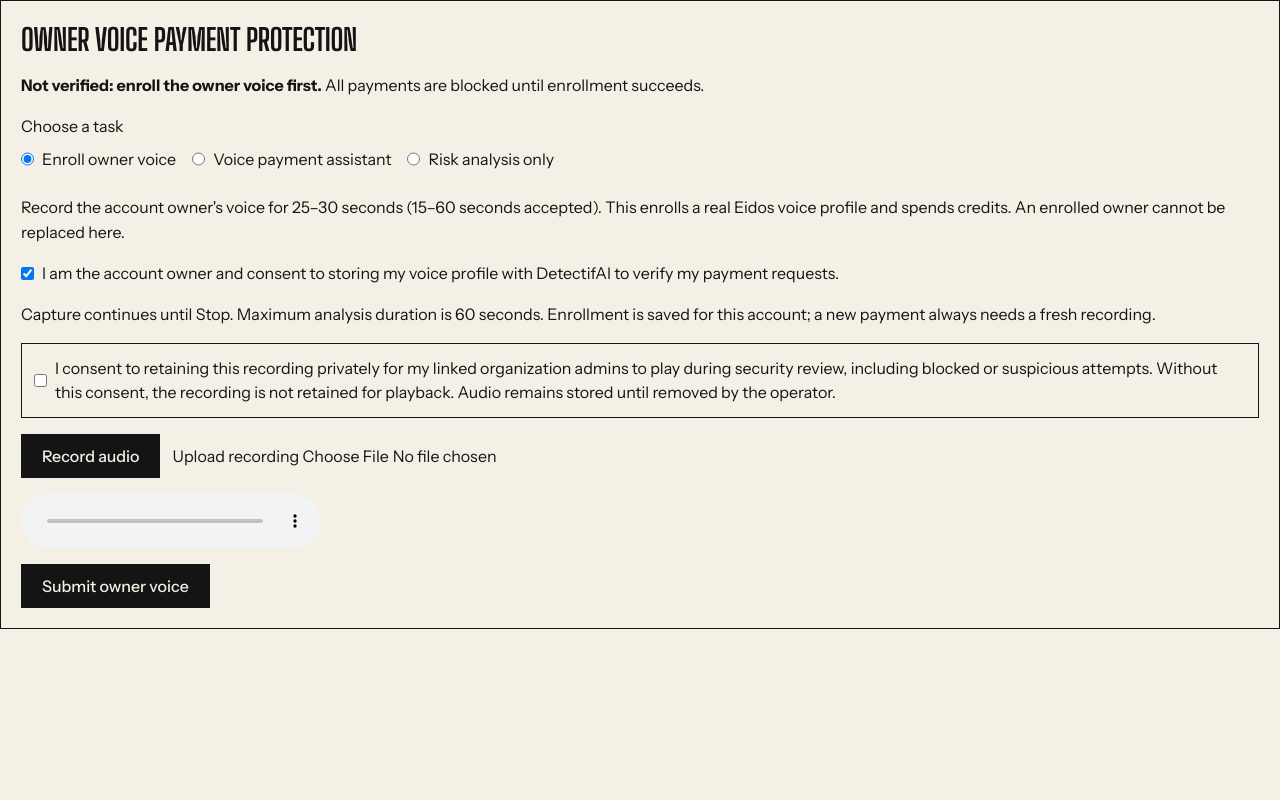
it: shows verified only after enrollment succeeds, then opens the payment assistant
Earlier steps of the test are not shown.
Step 1. Click the button "Submit owner voice" → point(115, 586), box 21,564 -> 210,608
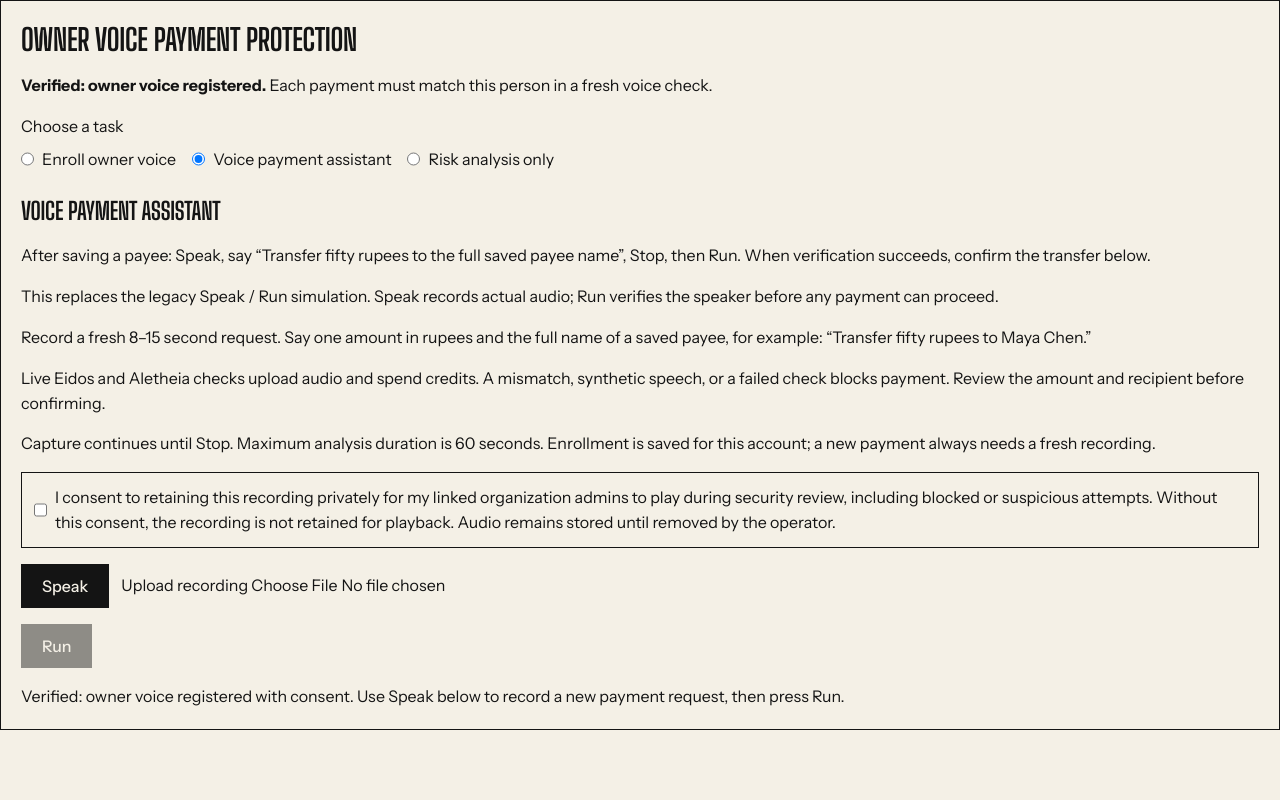
Now the text "Verified: owner voice registered." is shown, box 21,75 -> 266,95
Now the button "Speak" is shown, box 21,564 -> 109,608
Now the button "Run" is disabled, box 21,624 -> 92,668
